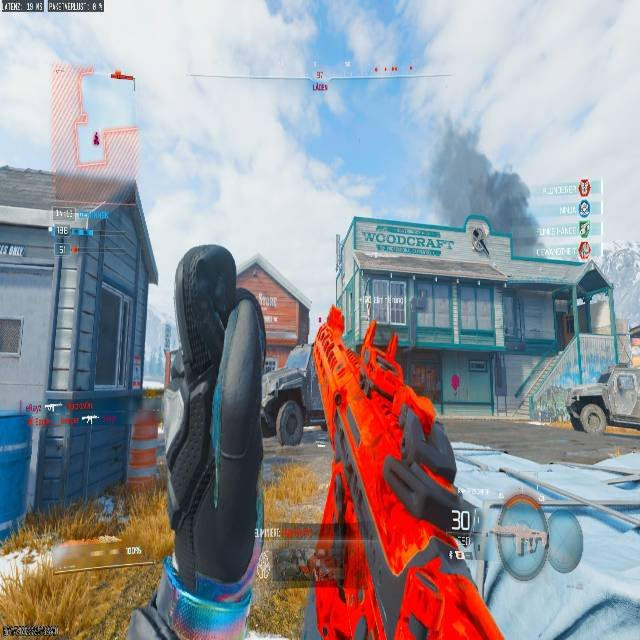player: (470, 224, 490, 256)
